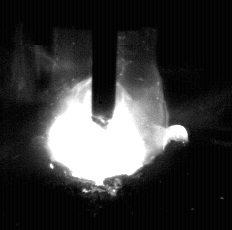arame: (93, 0, 116, 129)
poca: (45, 0, 187, 230)
